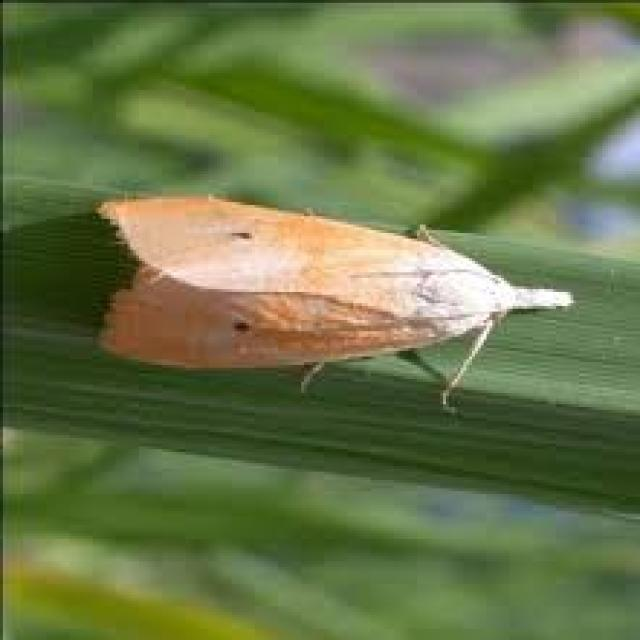yellow-stem-borer: (92, 139, 598, 434)
